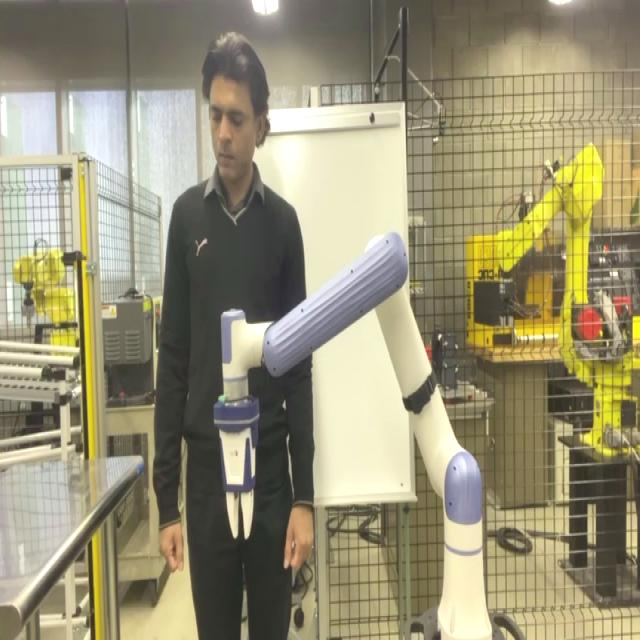robot: (214, 228, 526, 637)
